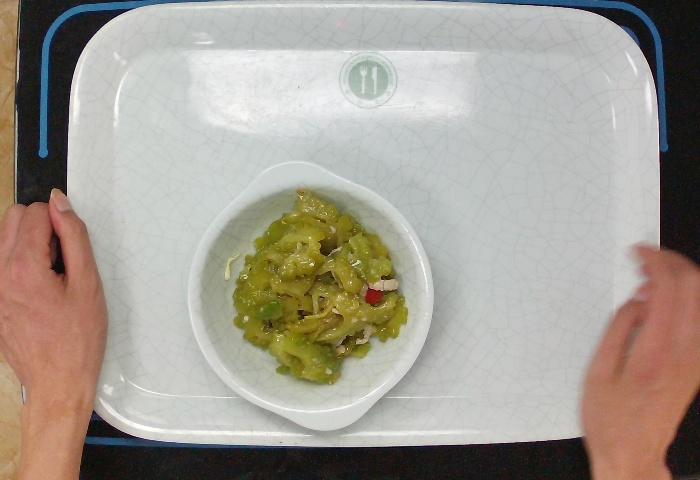JYsf-Shuang_Er_Wan: (185, 158, 437, 440)
